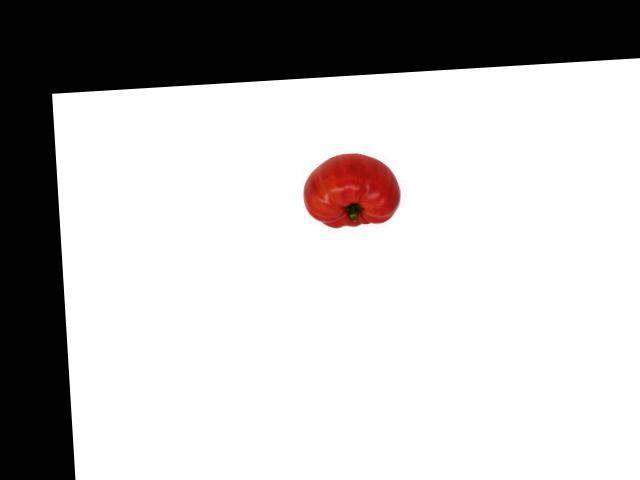tomato: (300, 151, 401, 227)
